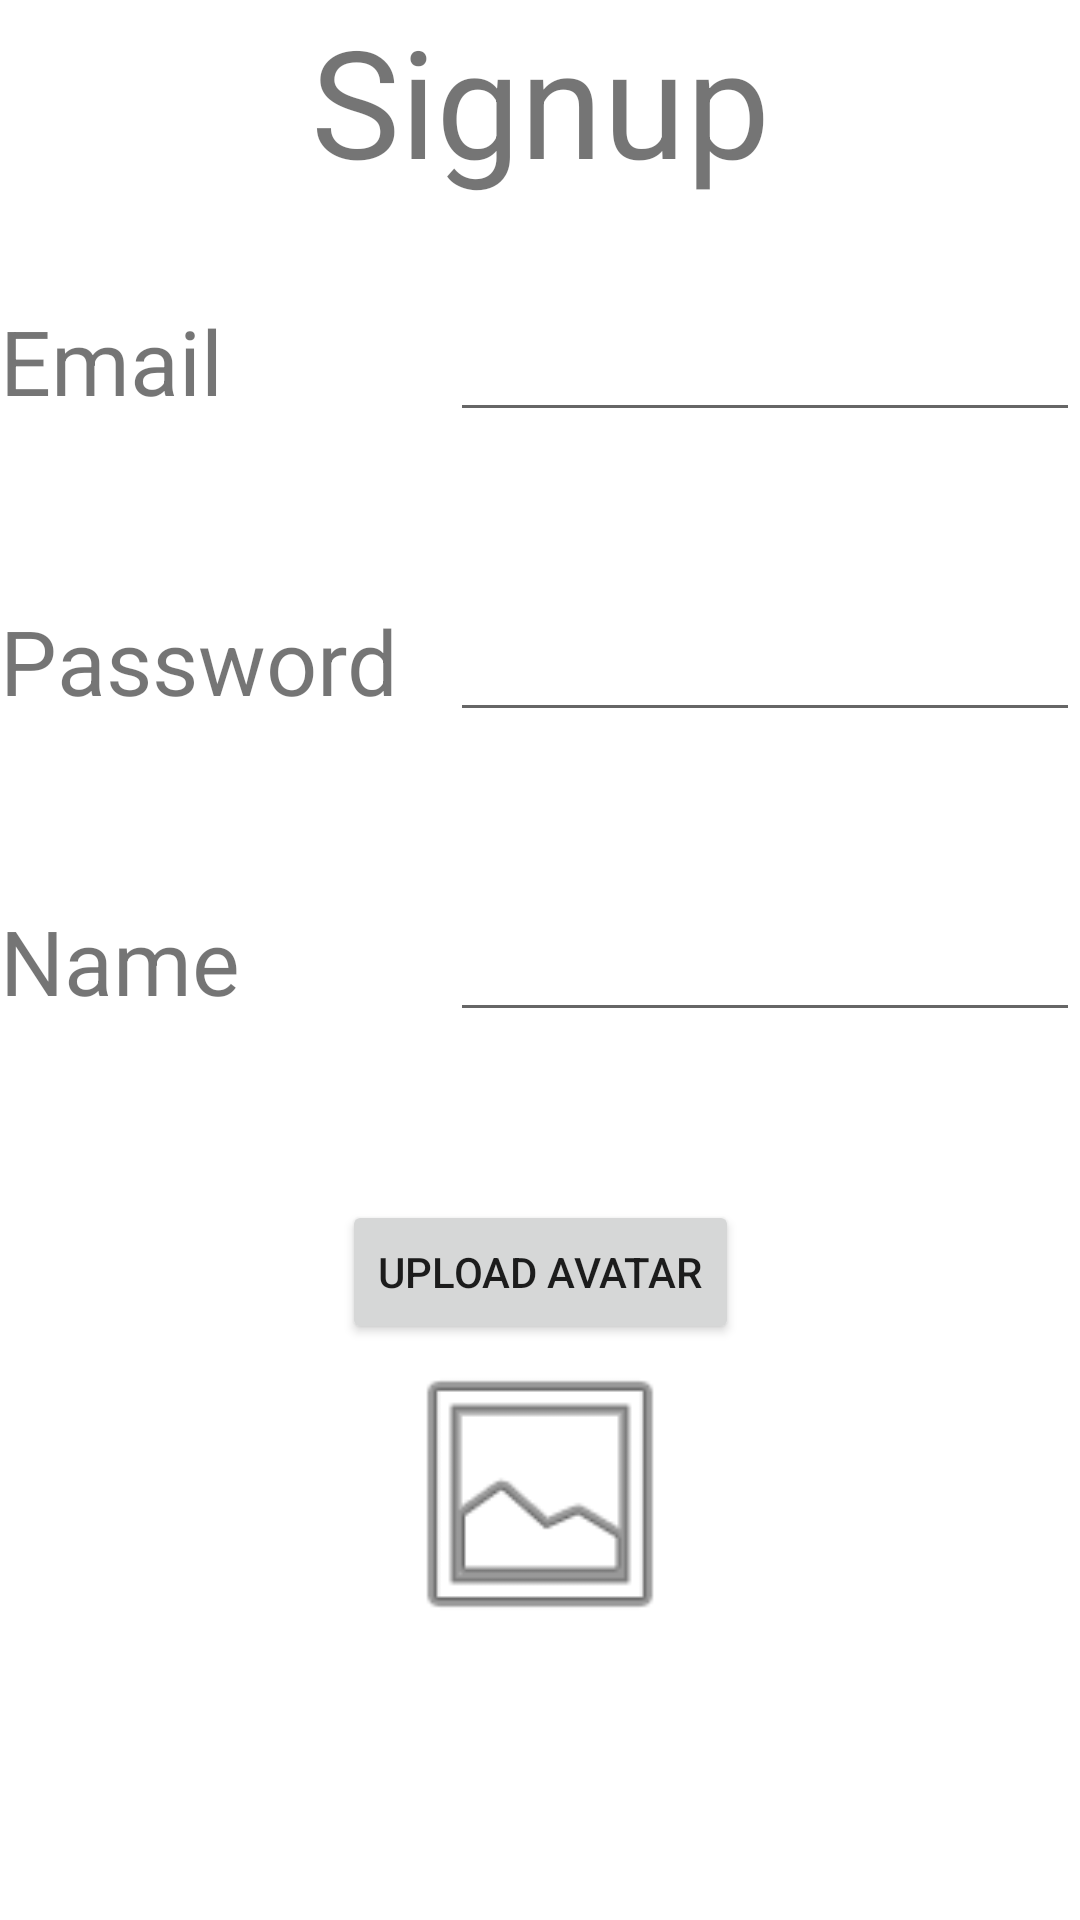

Screen size 1080 x 1920. Icon name, then its box in pixels as (x1,y1,x2,y2):
gallery: (427,1381,653,1607)
